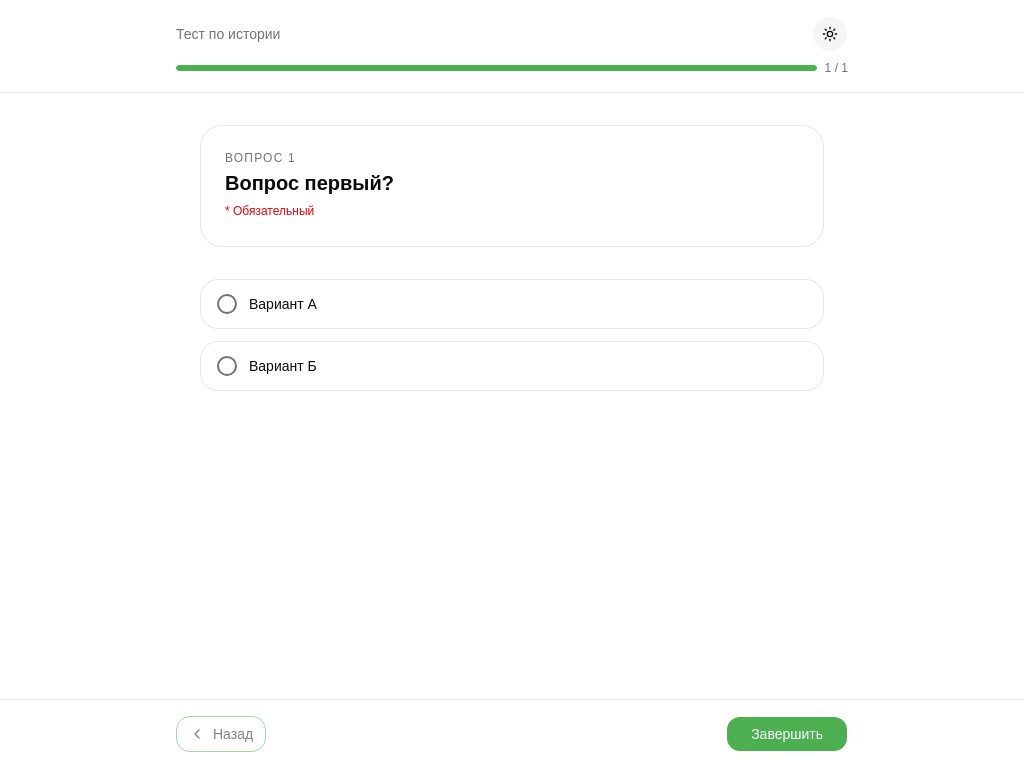
Test: QuizTakingPage › quiz taking UI › shows required warning when trying to skip required question
Click the button "Завершить": coordinates (787, 734) left=726, top=716, right=848, bottom=752
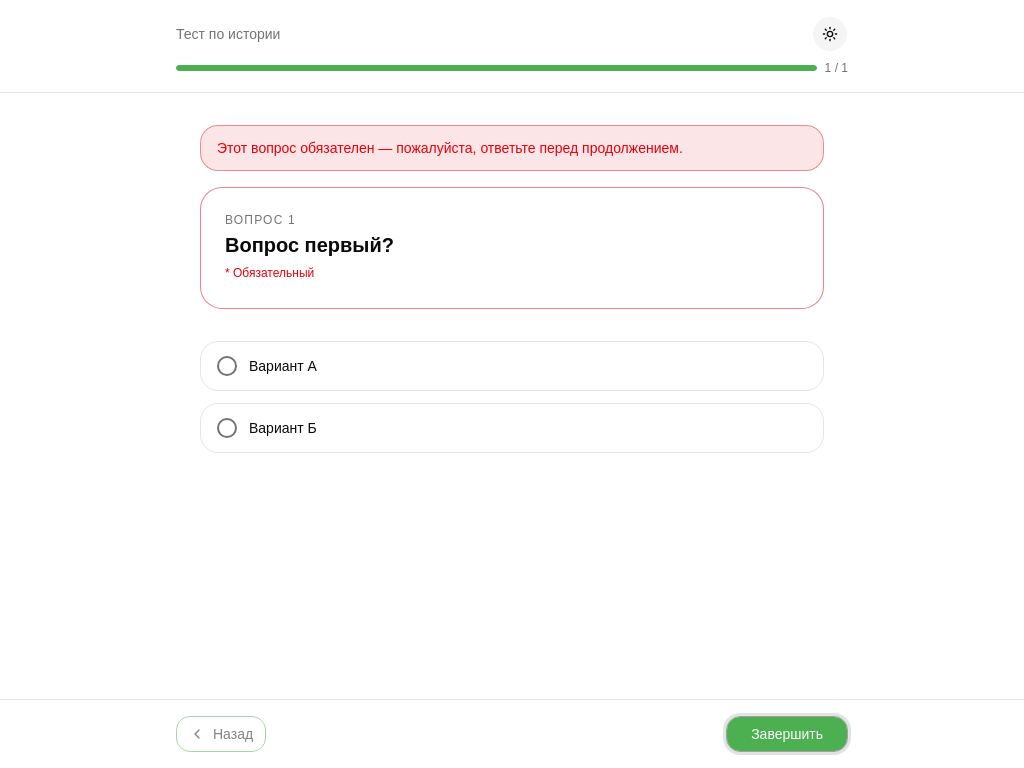
Expected: the text "Этот вопрос обязателен" is shown, left=217, top=140, right=683, bottom=156
